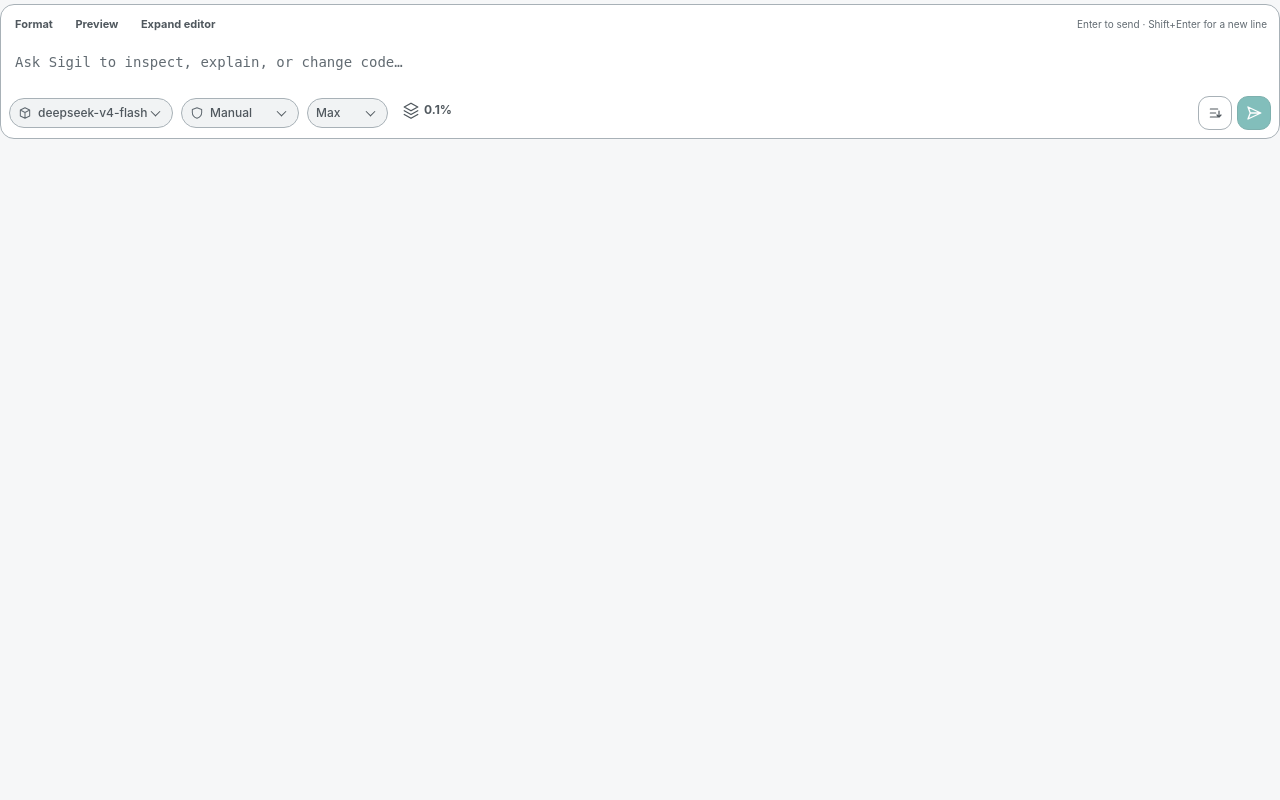
Test: structured composer › keeps provider-neutral cache diagnostics in the context detail popover
Click the button named "Context and cache details" at (427,112), box [396, 95, 458, 130]
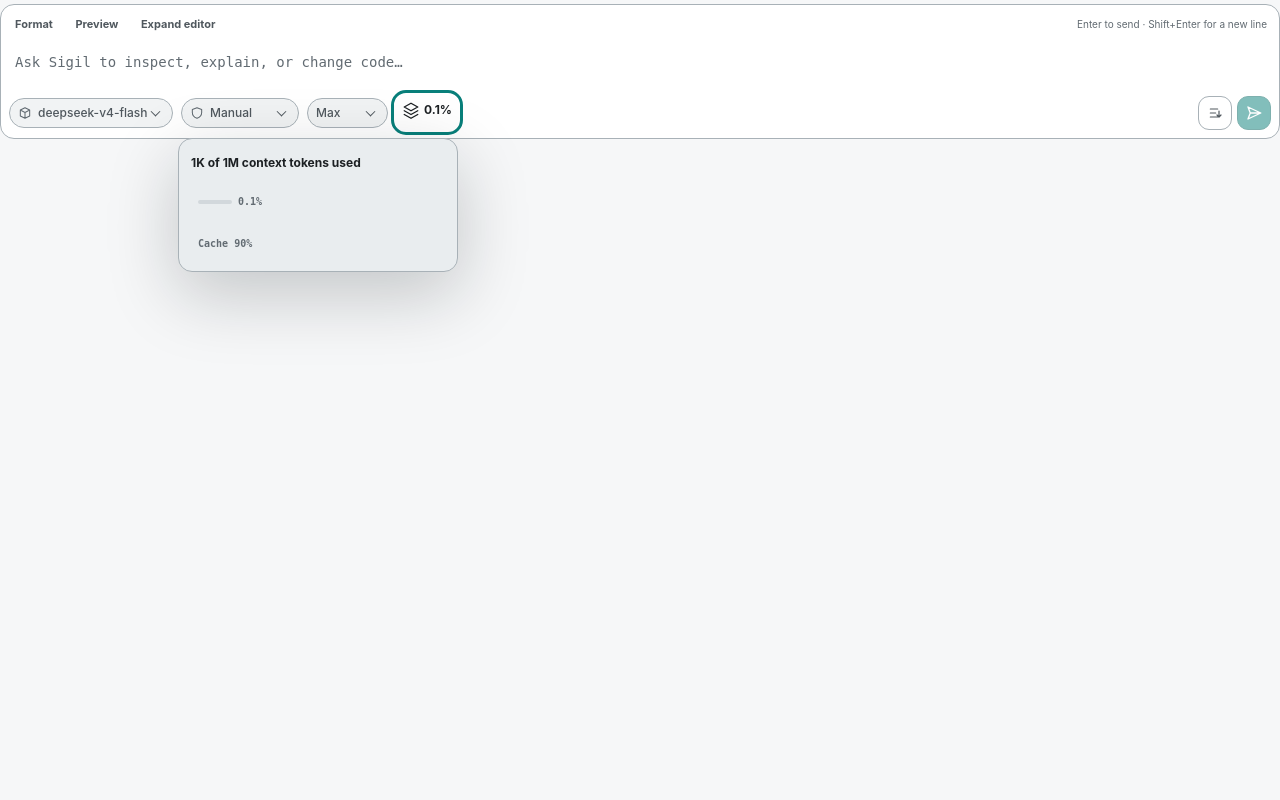
Expected: the text named "Prompt cache hit ratio 90%" reads "Cache 90%"
Expected: the element named "Prompt cache hit ratio 90%" is shown
Hover over the element named "Prompt cache hit ratio 90%" at (225,244), box [198, 238, 252, 249]
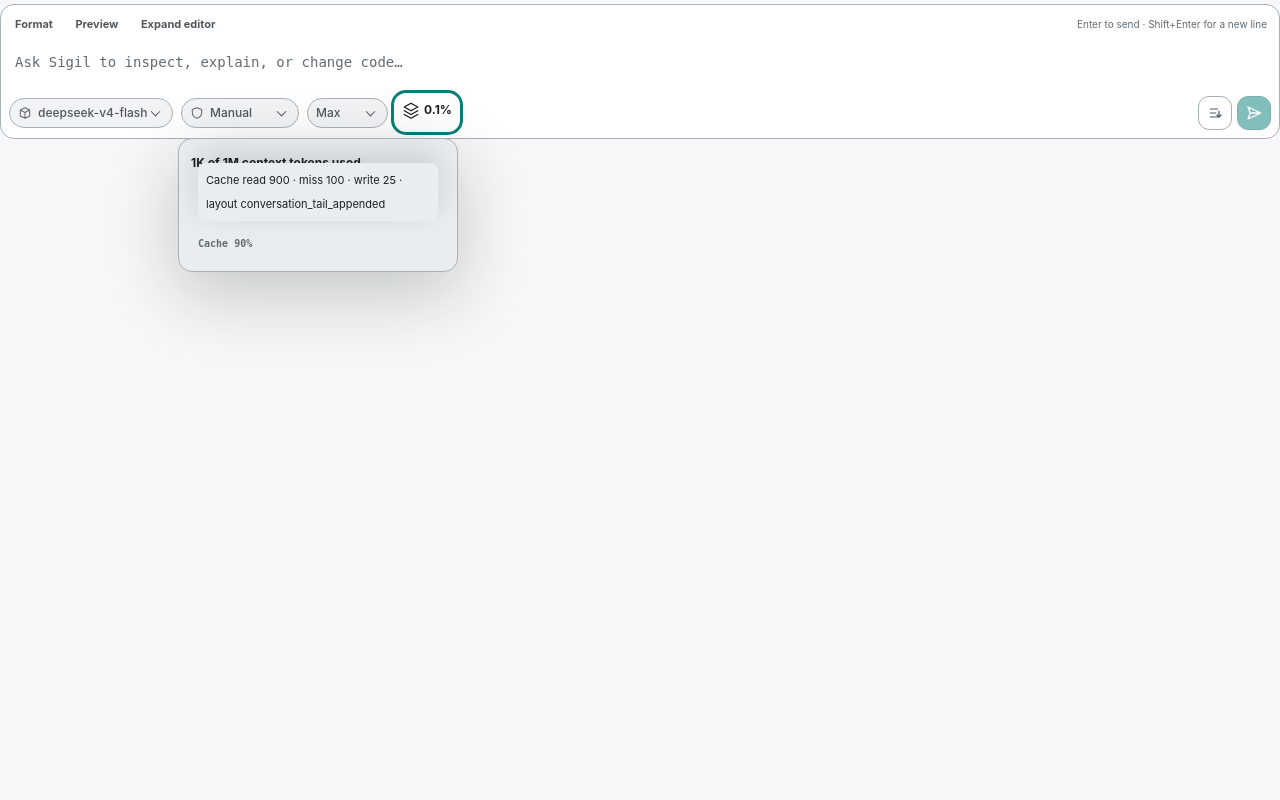
Expected: the tooltip reads "Cache read 900 · miss 100 · write 25 · layout conversation_tail_appended", [206, 173, 402, 211]
